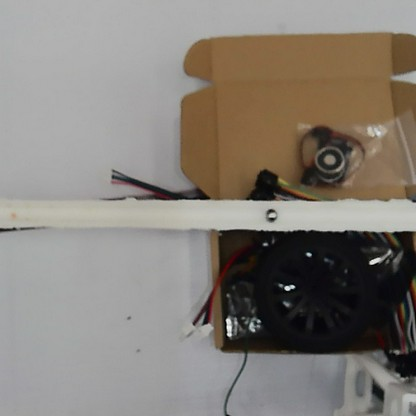ironball: (263, 205, 277, 223)
